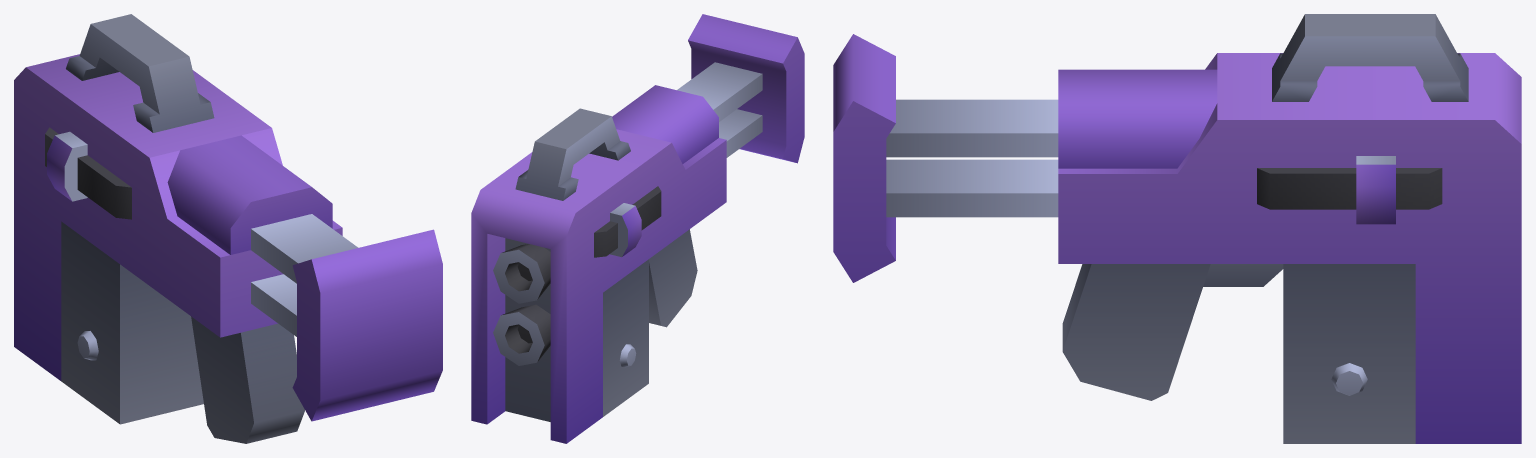
File: heavy.glb
3 renders of one model, left to right at view 1: azimuth 30°, elevation 25°; view 2: azimuth 150°, elevation 25°; view 3: azimuth 270°, elevation 25°, orthographic. The views are drawn at different scales.
Parts seen in each view (by area): view 1: blaster-i; view 2: blaster-i; view 3: blaster-i.
Part boxes in pixels (x1,y1,x2,y2): blaster-i: [14, 14, 442, 443]; blaster-i: [471, 14, 804, 443]; blaster-i: [833, 14, 1521, 443].
Size of the model in its own units: 0.165 by 0.32 by 0.52.
1 material, 1 textured.
